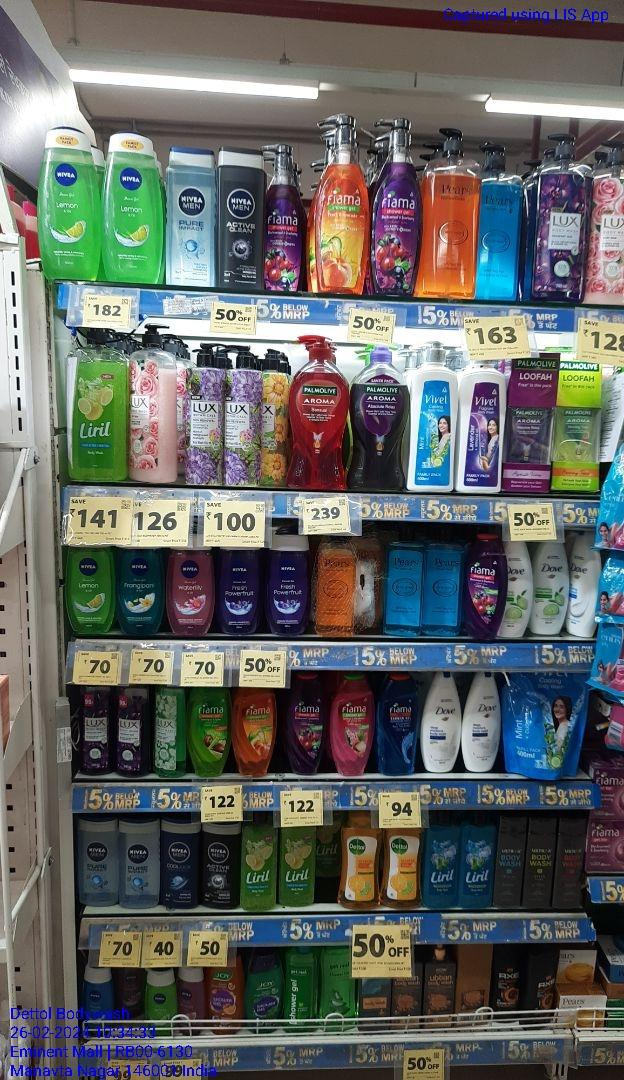Dettol_Bodywash_Refresh: (338, 818, 380, 908), (379, 827, 420, 908)
Dove_Deep_Moisture_Body_Wash_250ML: (421, 670, 462, 773), (462, 670, 501, 772)
Dove_Refreshing_Body_Wash_250ML: (498, 539, 531, 639), (534, 544, 569, 637)
Fiama_Shower_Gel_Lemongrass_and_Jojoba_250ML: (187, 689, 231, 778)
Fiama_Shower_Gel_Patchouli_and_Macadamia_250ML: (327, 675, 371, 775)
Fiama_Shower_Gel_Peach_and_Avocado_250ML: (232, 690, 274, 775)
Lux_Black_Orchid_Scent_and_Juniper_Oil_Body_Wash_245ML: (113, 687, 147, 776), (79, 687, 111, 773)
Lux_Body_Wash_Skin_Detox_Freesia_Scent_and_Alove_Vera_245ML: (153, 687, 185, 777)
Nivea_Shower_Gel_Frangipani_and_Oil_250ML: (116, 547, 164, 637)
Nivea_Shower_Gel_Fresh_Powerfruit_250ML: (266, 529, 307, 635), (219, 549, 262, 634)
Nivea_Shower_Gel_Lemon_and_Oil_250ML: (39, 124, 101, 282), (103, 129, 163, 284), (65, 544, 113, 634)
Nivea_Shower_Gel_Waterlily_and_Oil_250ML: (166, 549, 218, 636)
Pears_Pure_Glycerin_and_Mint_Extracts_Body_Wash_250ML: (385, 528, 423, 641)
